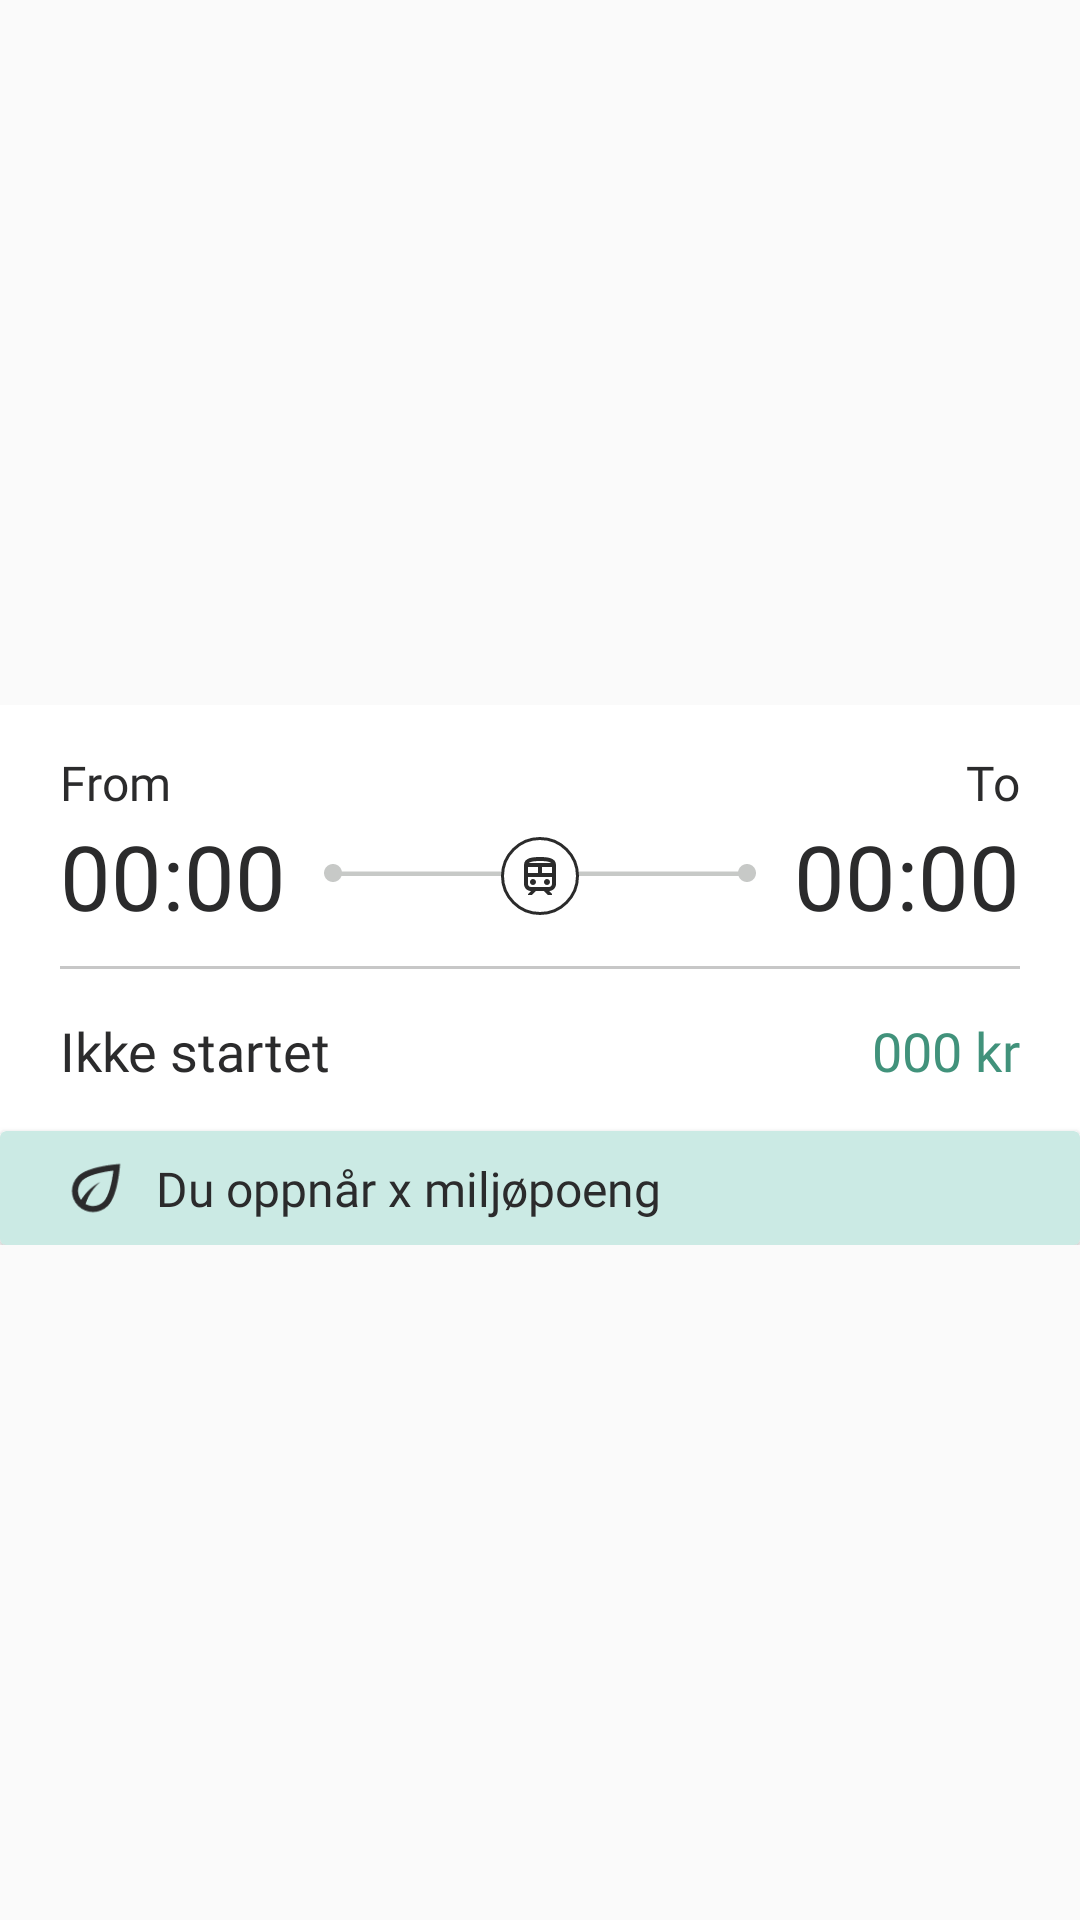

Icon bounding boxes for this 1080px x 1920px phone screenshot, format (x1, y1, x2, y2):
leafe image: (71, 1163, 121, 1213)
